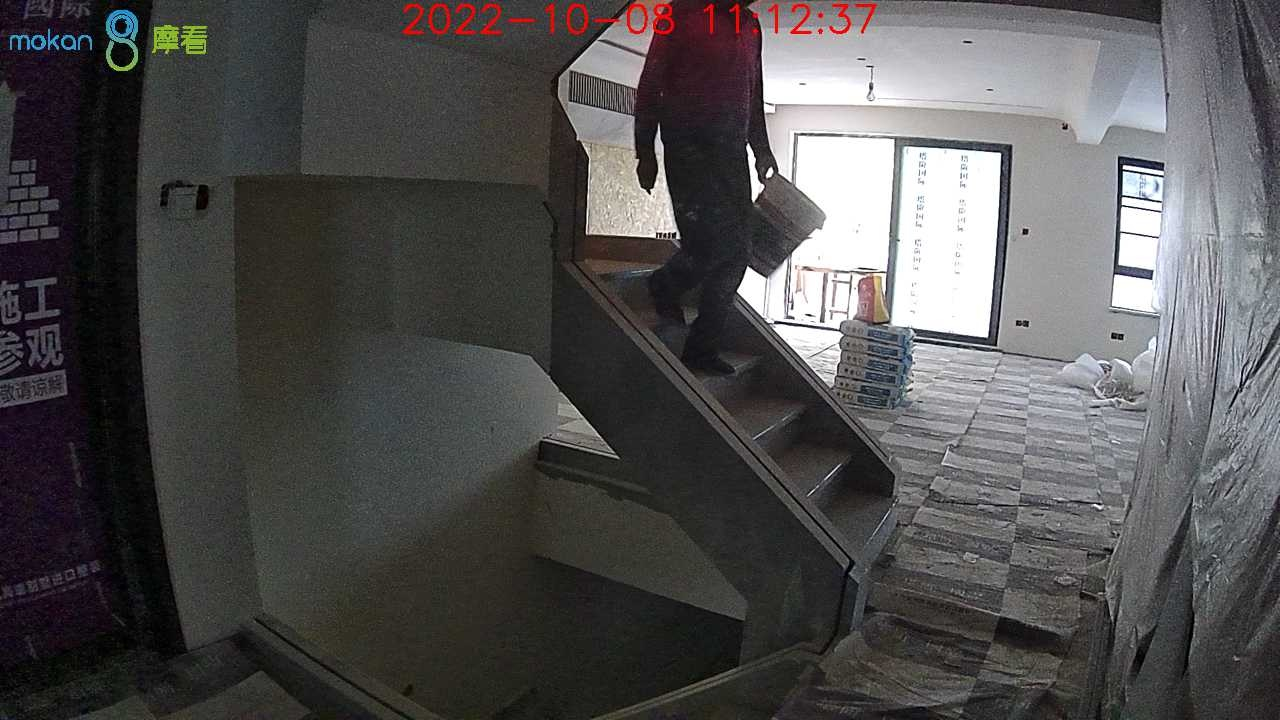people: (634, 2, 778, 375)
window: (783, 139, 1007, 340)
